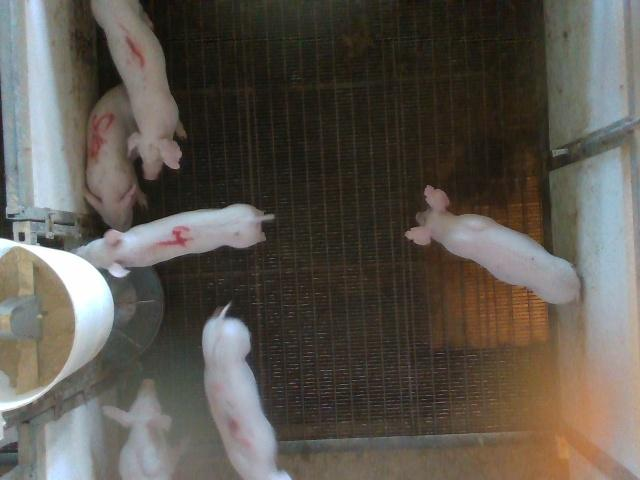pig-1: (92, 0, 185, 179)
pig-3: (202, 304, 290, 479)
pig-4: (74, 204, 274, 277)
pig-5: (84, 85, 148, 231)
